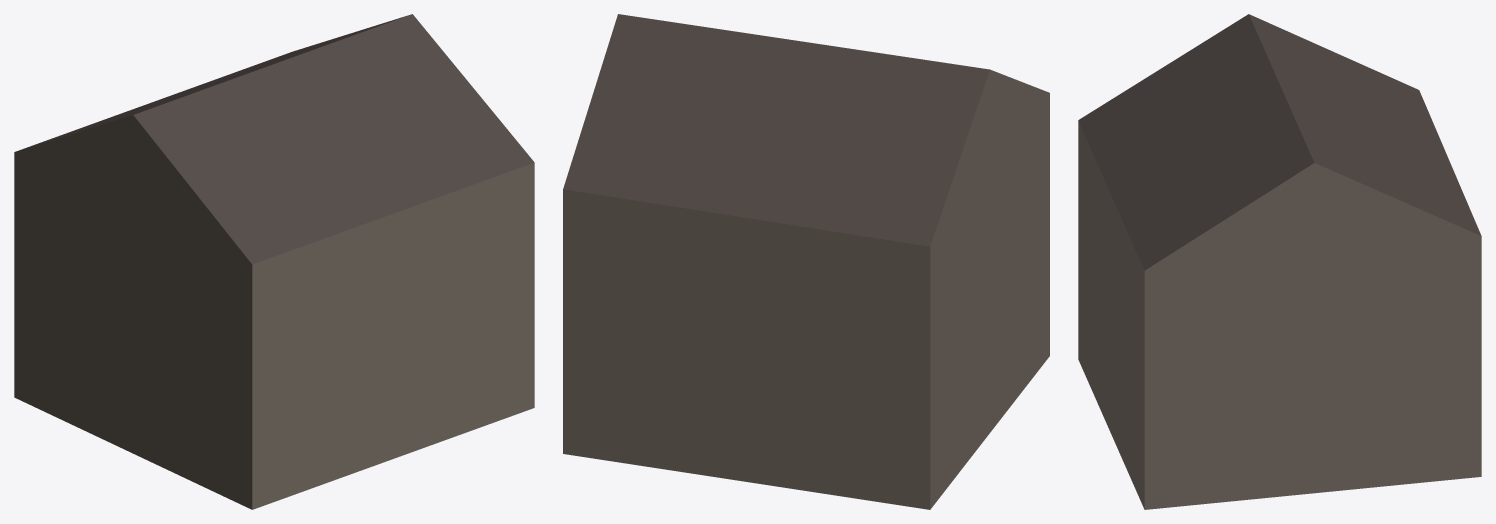
The picture shows the model from 3 angles, left to right: view 1: azimuth 30°, elevation 25°; view 2: azimuth 150°, elevation 25°; view 3: azimuth 270°, elevation 25°; orthographic projection. The views are drawn at different scales.
Parts seen in each view (by area): view 1: HP-w1196661473; view 2: HP-w1196661473; view 3: HP-w1196661473.
Part boxes in pixels (x1=…): HP-w1196661473: x1=14, y1=14, x2=534, y2=509; HP-w1196661473: x1=563, y1=14, x2=1049, y2=509; HP-w1196661473: x1=1078, y1=14, x2=1481, y2=509.
Bounding box in the file's own units: 9.72 × 8.29 × 9.17.
